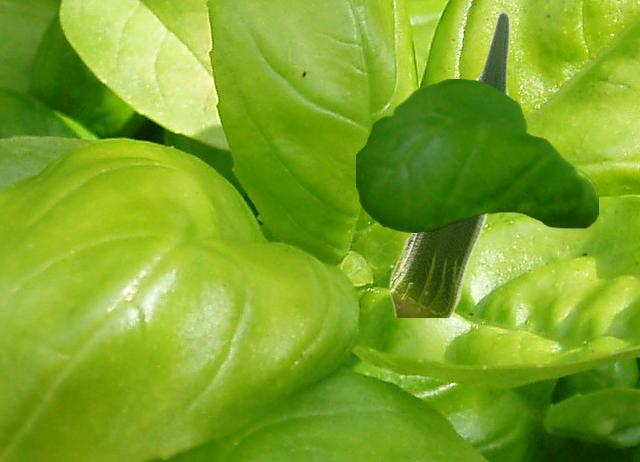okra: (388, 9, 510, 316)
